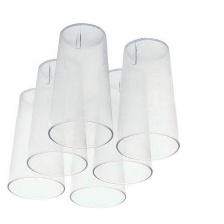glass: (42, 16, 121, 155), (23, 50, 95, 180), (87, 61, 159, 189), (113, 31, 182, 162), (66, 81, 132, 211), (6, 83, 69, 201)
